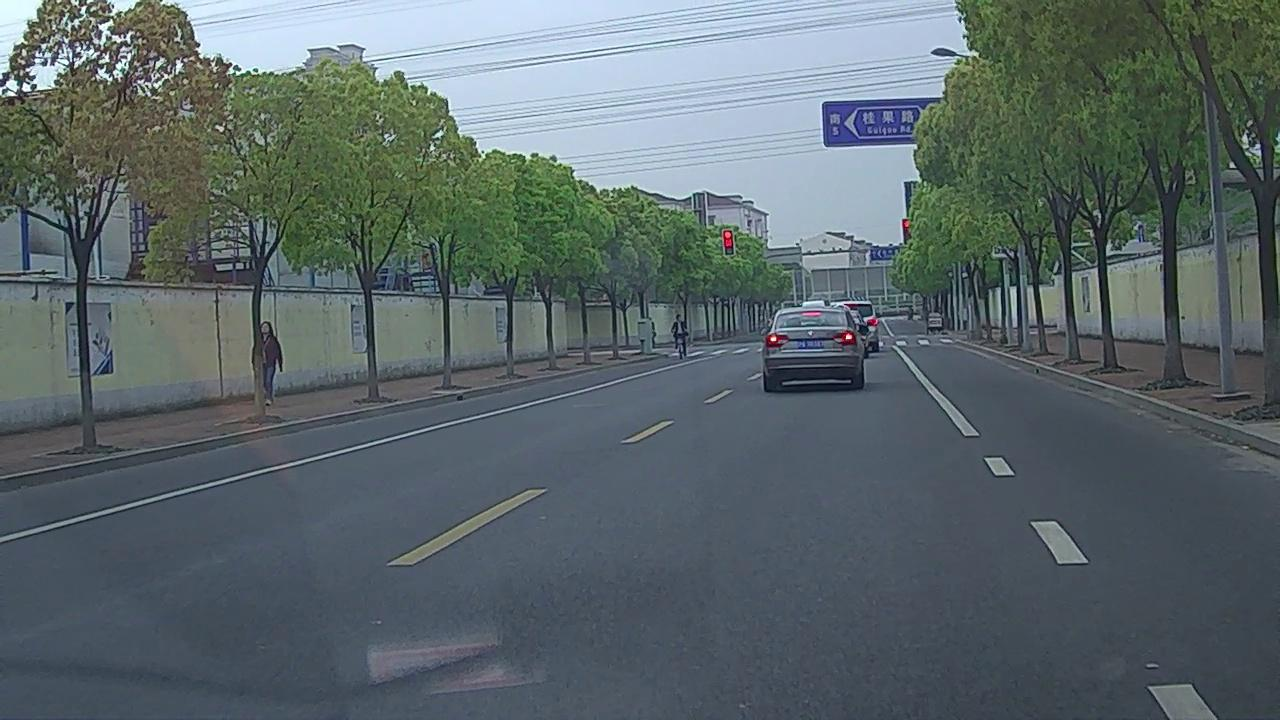traffic_light: (723, 231, 734, 255), (903, 219, 913, 244)
